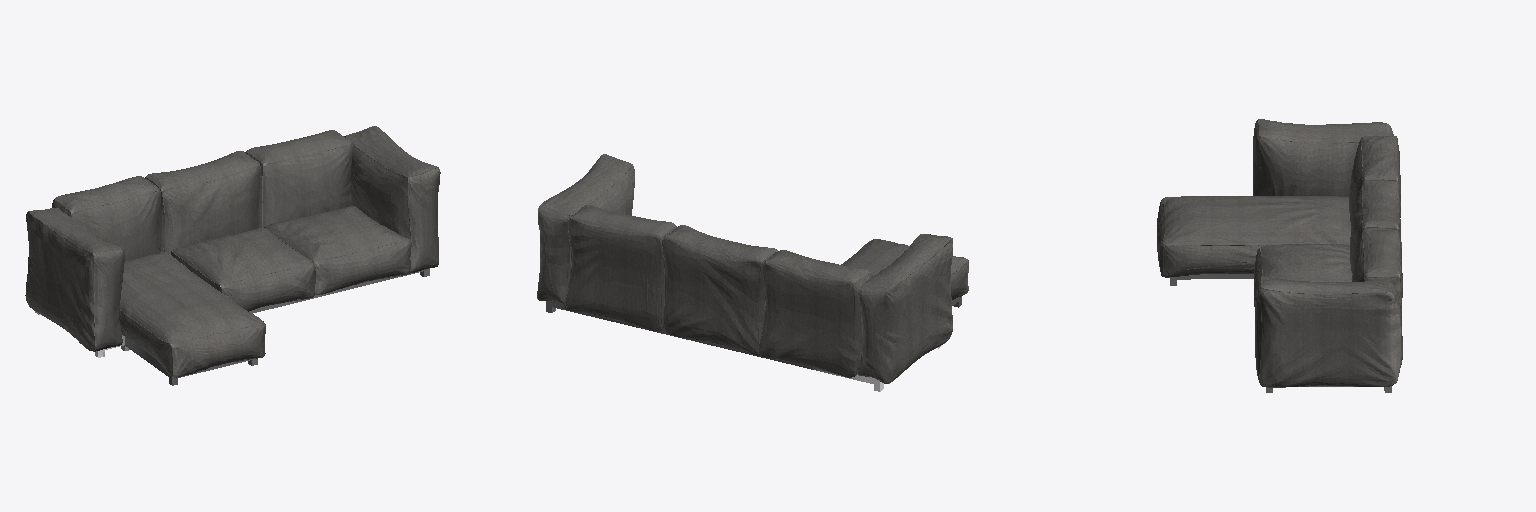
3 views of the same model, side by side, from view 1: azimuth 30°, elevation 25°; view 2: azimuth 150°, elevation 25°; view 3: azimuth 270°, elevation 25° (orthographic).
Parts seen in each view (by area): view 1: solid_001, solid_002; view 2: solid_001, solid_002; view 3: solid_001, solid_002.
Boxes of the visible parts, x1,y1,x2,y2 form: solid_001: [25, 126, 440, 377]; solid_002: [35, 269, 429, 385]; solid_001: [537, 154, 968, 383]; solid_002: [546, 296, 961, 391]; solid_001: [1157, 119, 1402, 387]; solid_002: [1170, 274, 1391, 392].
Bounding box in the file's own units: 3.05 × 0.9129 × 1.83.
Materials: 1 (1 with a texture image).